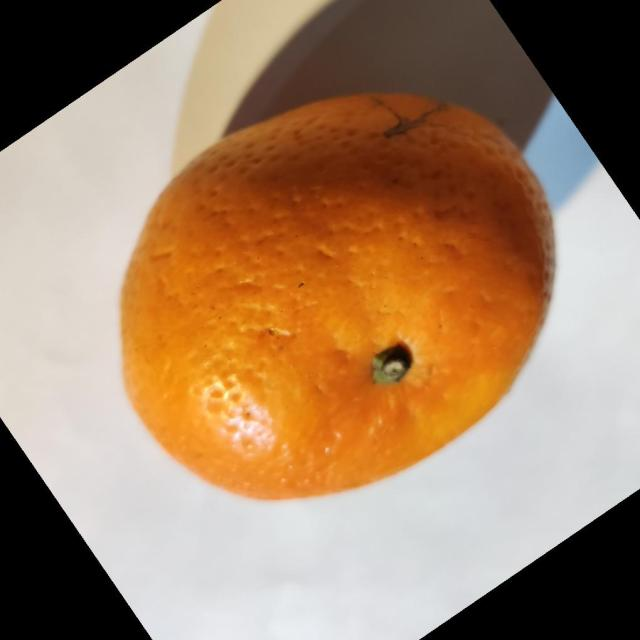fresh orange: (118, 89, 557, 501)
